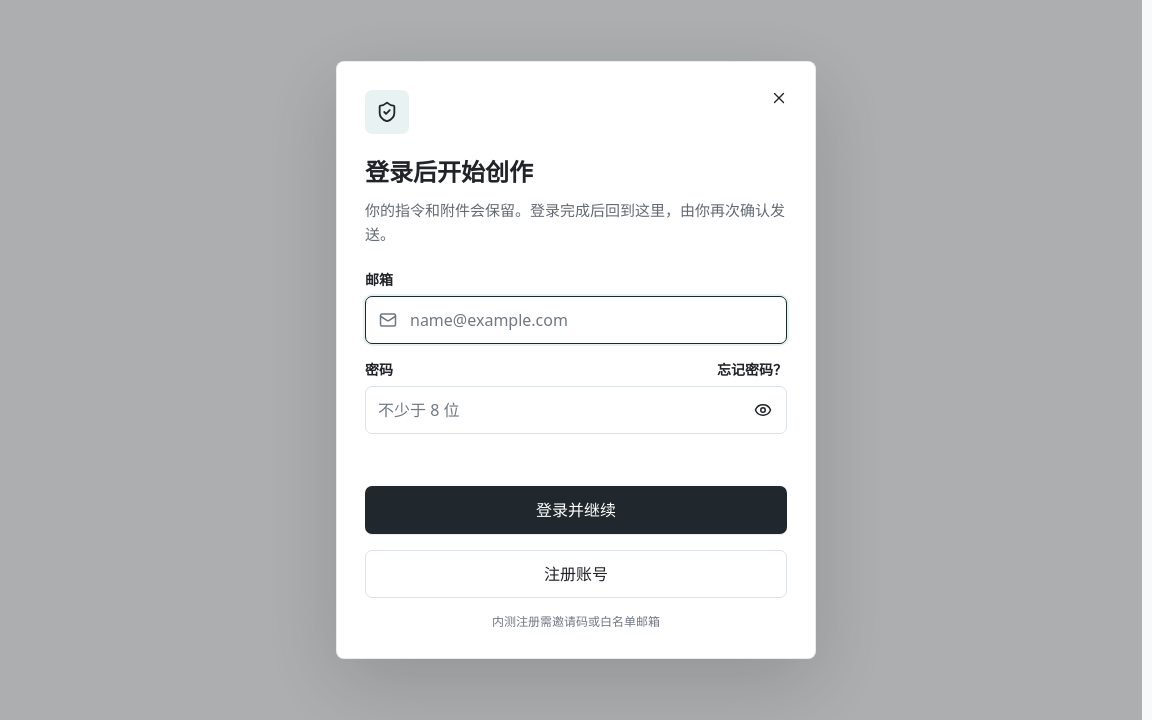
it: AuthDialog › keeps an unverified login in the dialog instead of granting creation access
Type "review@example.com" into the field labelled "邮箱" at (576, 320), box [365, 296, 787, 344]
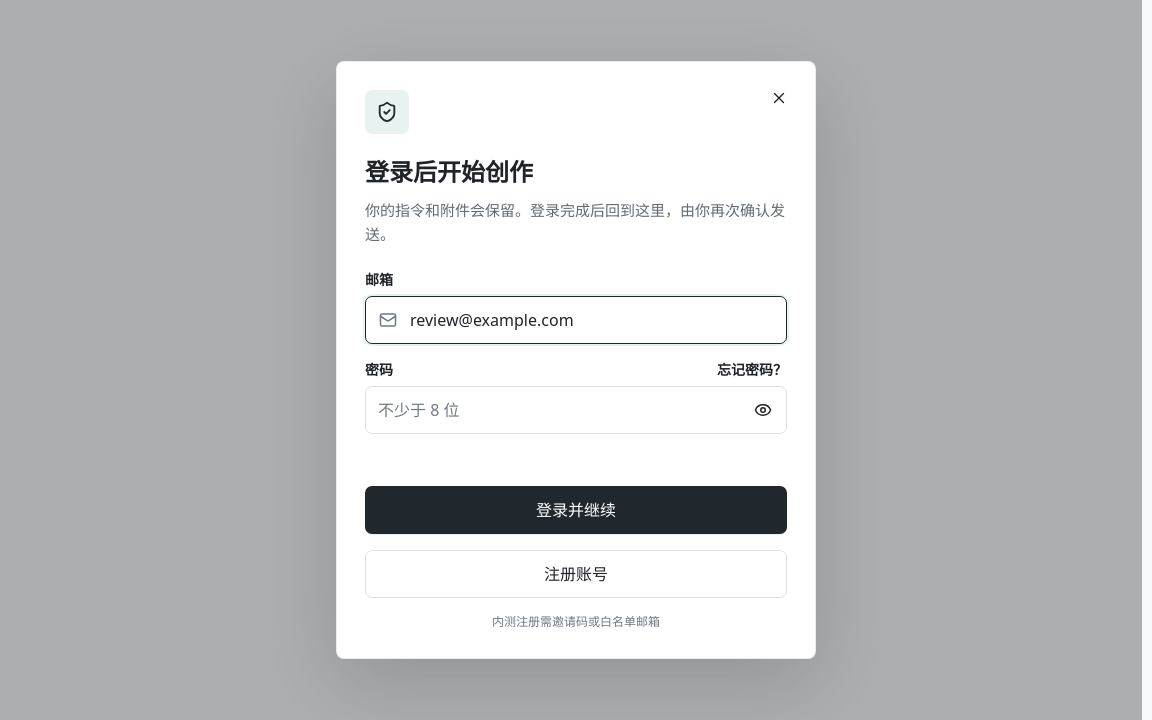
Type "review123" into the password field labelled "密码" at (576, 410), box [365, 386, 787, 434]
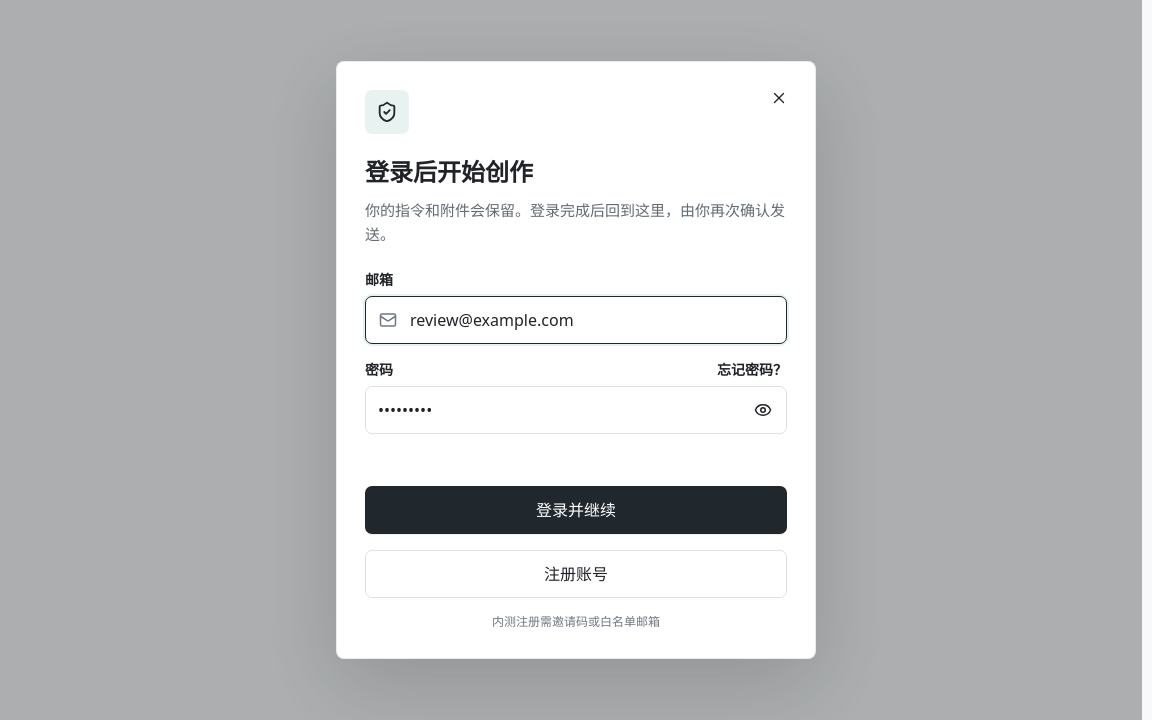
Click the button "登录并继续" at (576, 510), box [365, 486, 787, 534]
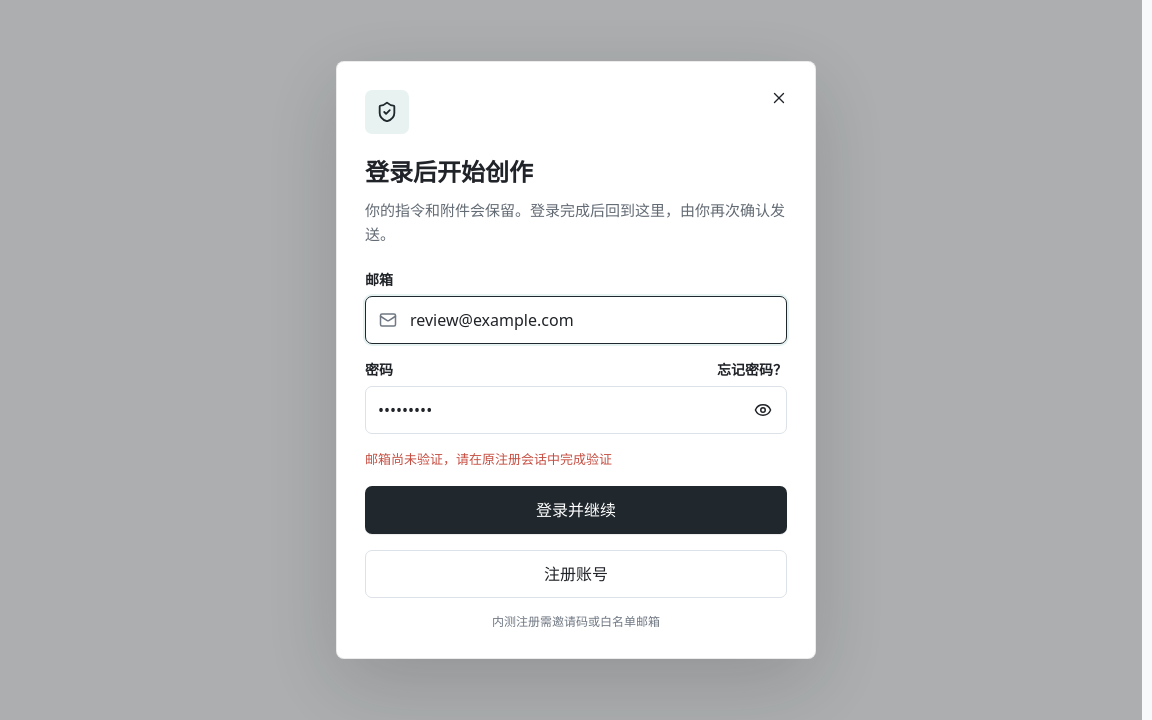
Result: the text "邮箱尚未验证，请在原注册会话中完成验证" is shown at [365, 450, 612, 468]
